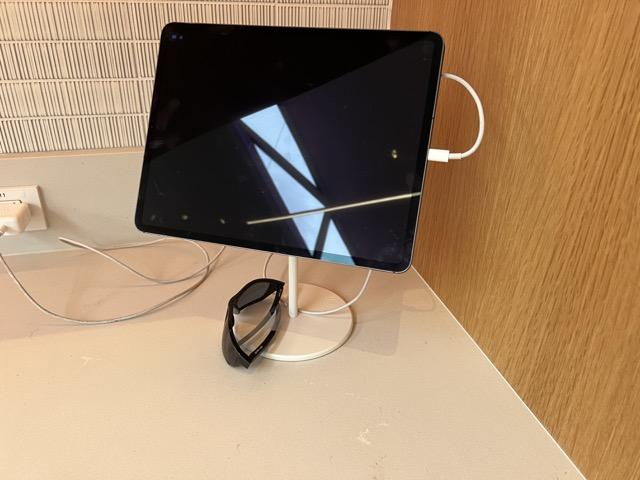Sunglasses: (221, 276, 285, 371)
